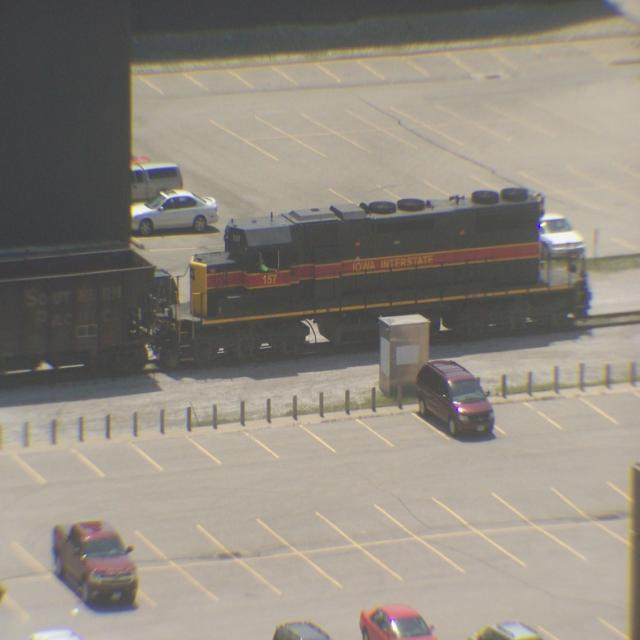car: (49, 515, 140, 608), (408, 351, 493, 439), (127, 181, 221, 237)
